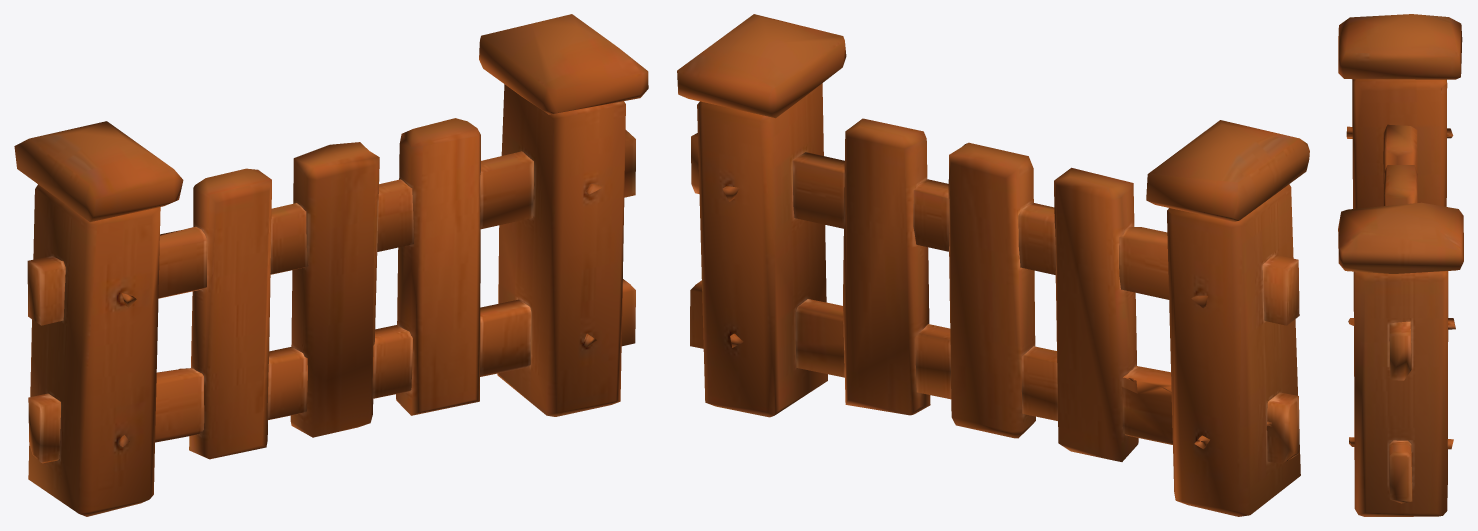
File: fence_low_1.glb
The picture shows the model from 3 angles, left to right: view 1: azimuth 30°, elevation 25°; view 2: azimuth 150°, elevation 25°; view 3: azimuth 270°, elevation 25°; orthographic projection. The views are drawn at different scales.
Parts seen in each view (by area): view 1: ЦІЛЬ; view 2: ЦІЛЬ; view 3: ЦІЛЬ.
Part boxes in pixels (bbox=[...]): ЦІЛЬ: bbox=[14, 14, 648, 516]; ЦІЛЬ: bbox=[677, 14, 1309, 516]; ЦІЛЬ: bbox=[1338, 14, 1463, 516].
Size of the model in its own units: 0.9469 by 0.568 by 0.2134.
1 material, 1 textured.
